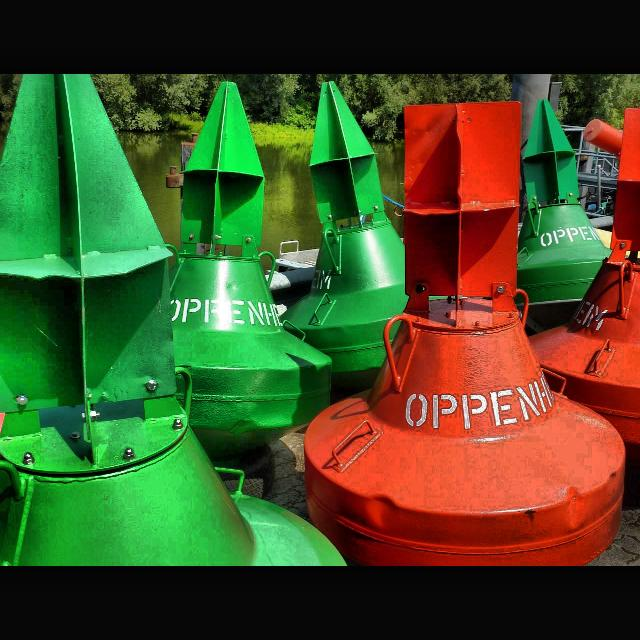buoy: (304, 96, 628, 564), (124, 79, 334, 474), (277, 76, 459, 408), (498, 99, 616, 328)
